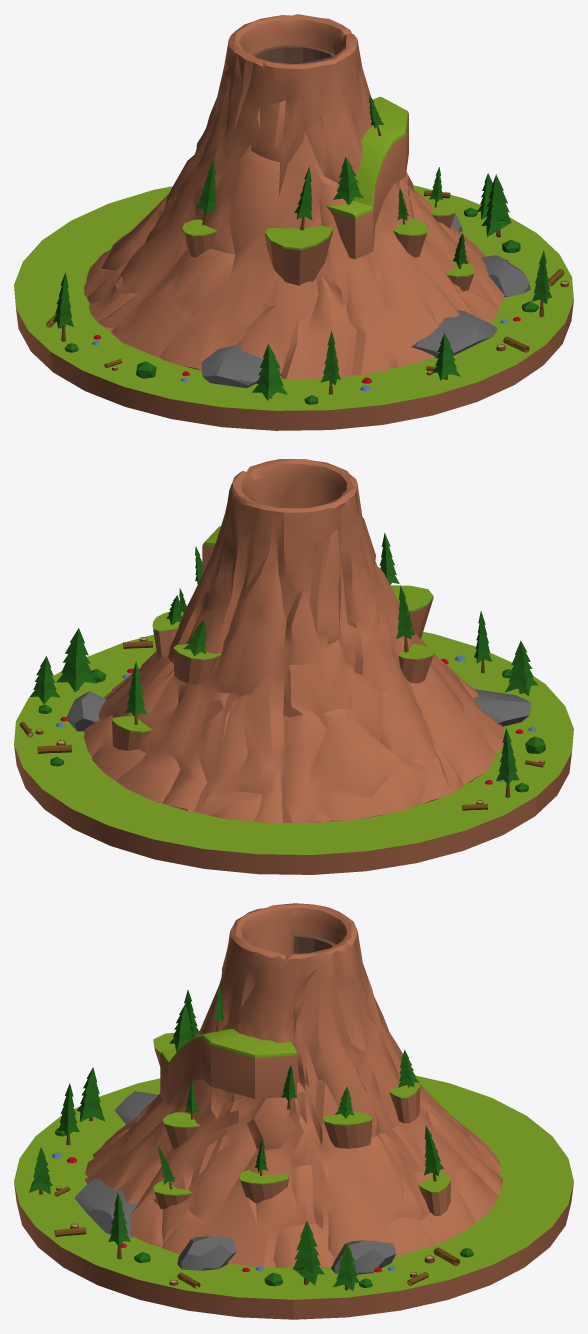
The model's file is Filling Island.fbx.
3 views of the same model, one above another, from view 1: azimuth 30°, elevation 25°; view 2: azimuth 150°, elevation 25°; view 3: azimuth 270°, elevation 25° (orthographic).
Parts seen in each view (by area): view 1: Other Part, Base; view 2: Base, Other Part; view 3: Other Part, Base.
Part boxes in pixels (left/top/right/bottom): Other Part: left=51, top=27, right=573, bottom=430; Base: left=14, top=14, right=536, bottom=371; Base: left=14, top=472, right=536, bottom=874; Other Part: left=52, top=459, right=573, bottom=815; Other Part: left=14, top=903, right=297, bottom=1319; Base: left=292, top=903, right=573, bottom=1319.
Bounding box in the file's own units: 101 × 54.78 × 101.
